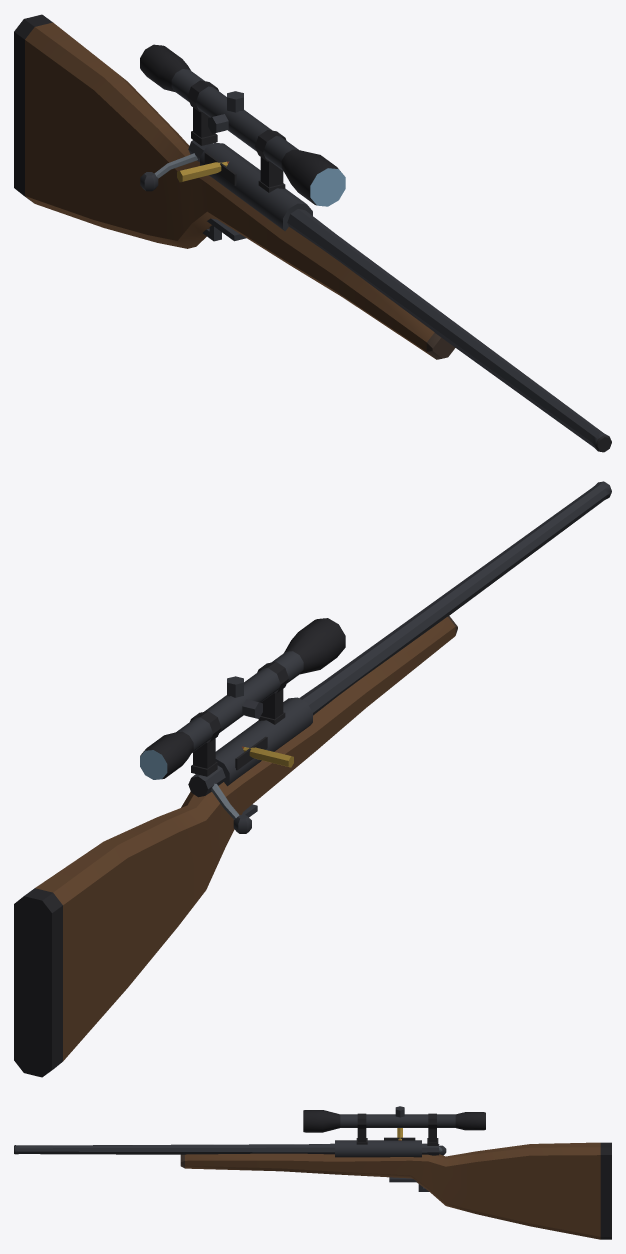
Rendered from rifle_hunting.glb.
3 renders of one model, top to bottom at view 1: azimuth 30°, elevation 25°; view 2: azimuth 150°, elevation 25°; view 3: azimuth 270°, elevation 25°, orthographic. The views are drawn at different scales.
Parts seen in each view (by area): view 1: Weapon, Scope, Bolt; view 2: Weapon, Scope, Bolt; view 3: Weapon, Scope, Bolt.
Boxes of the visible parts, x1,y1,x2,y2 form: Weapon: (14,14,611,452); Scope: (140,44,345,206); Bolt: (140,140,212,191); Weapon: (14,481,611,1077); Scope: (140,618,345,779); Bolt: (188,765,251,833); Weapon: (14,1137,611,1239); Scope: (303,1106,485,1141); Bolt: (422,1143,446,1155).
Bounding box in the file's own units: 0.0832 × 0.262 × 1.1.
